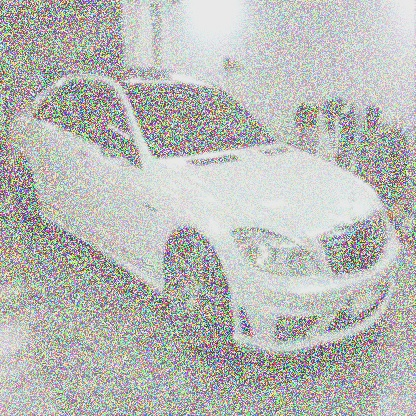Vehicle: (9, 66, 401, 352)
